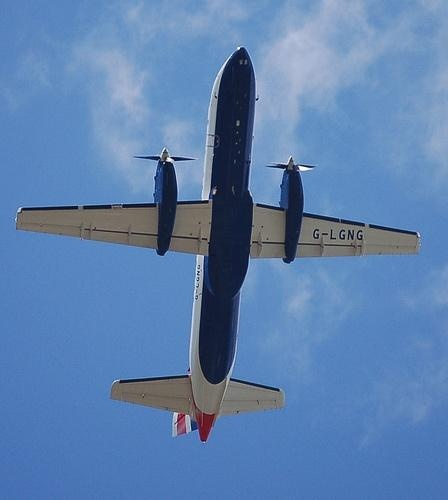aeroplane: (16, 45, 421, 445)
